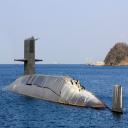submarine: (8, 38, 125, 116)
